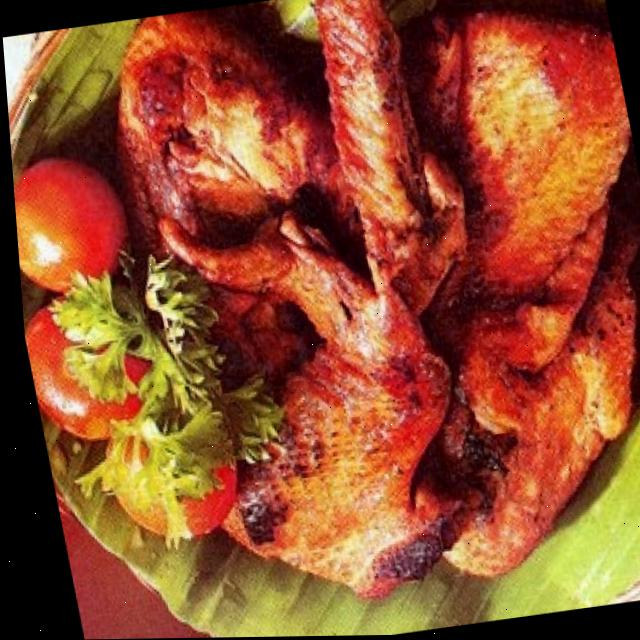鸡肉料理 含炸鸡: (60, 0, 640, 637)
